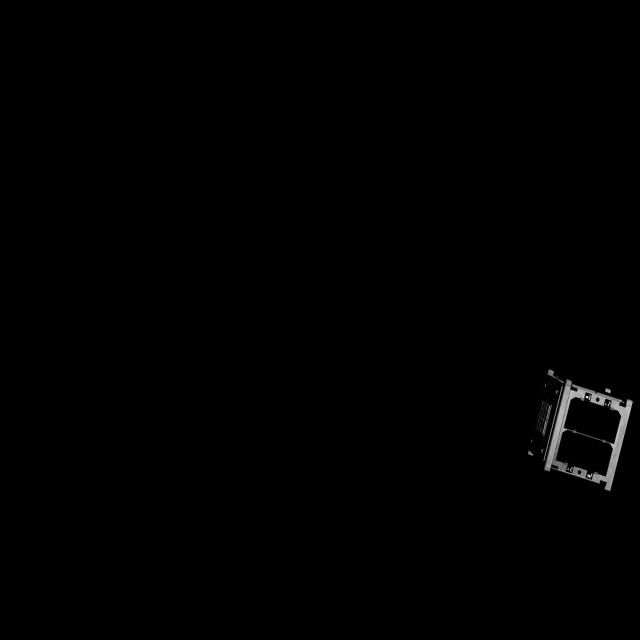medium_debris: (525, 366, 633, 489)
